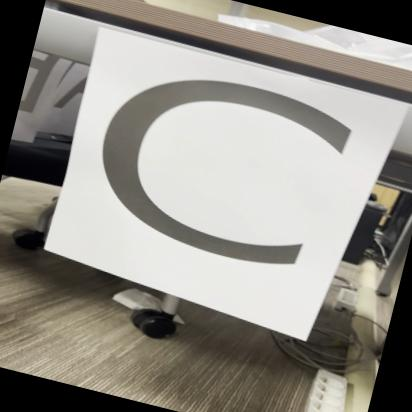seat: (69, 34, 377, 326)
